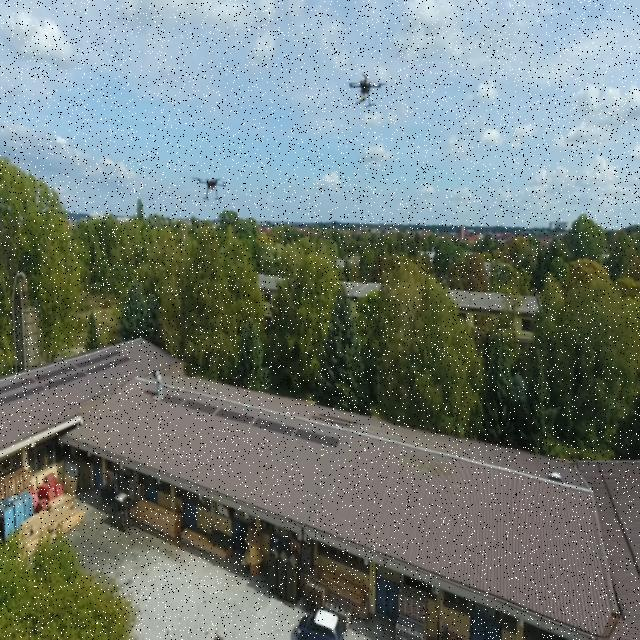UAV: (343, 68, 387, 110), (192, 172, 232, 204)
